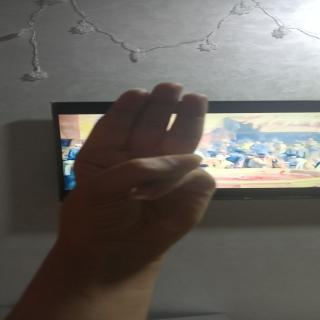THA: (46, 80, 263, 243)
